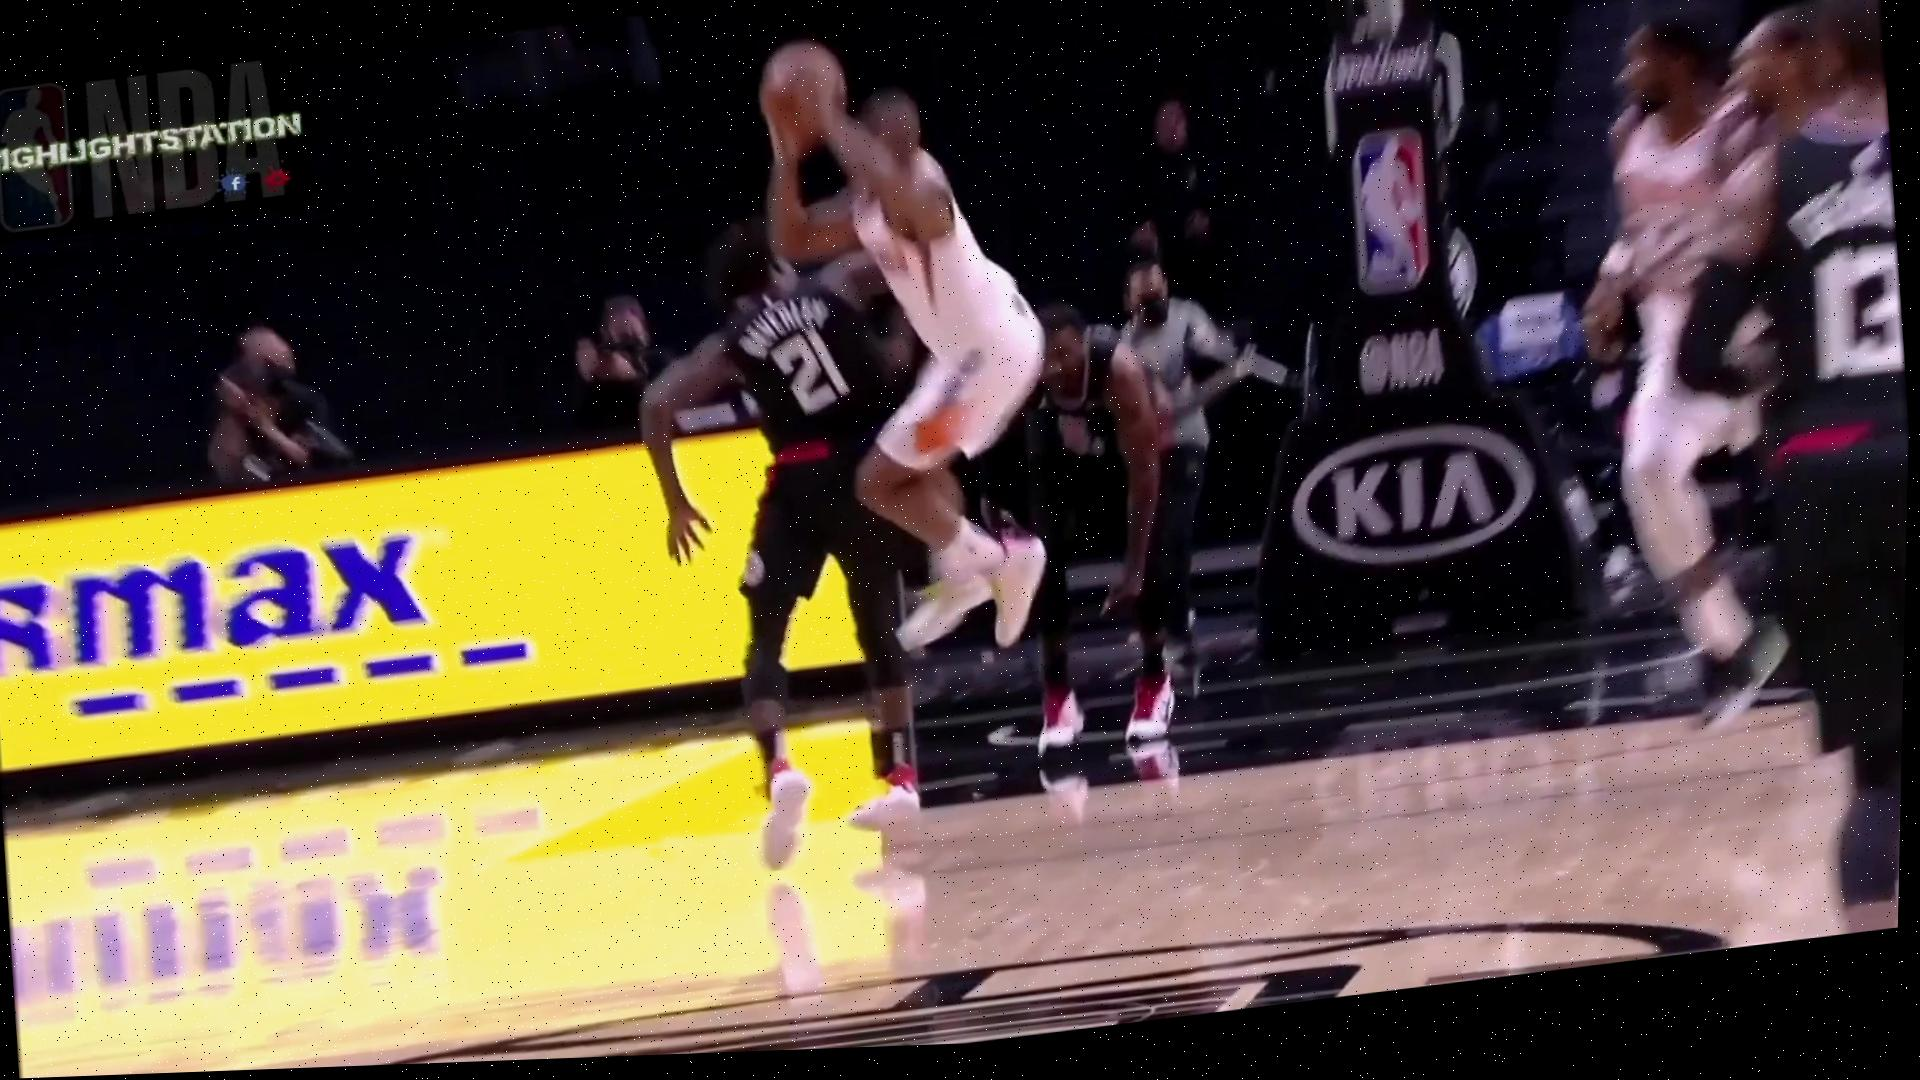foul: (616, 51, 1102, 856)
